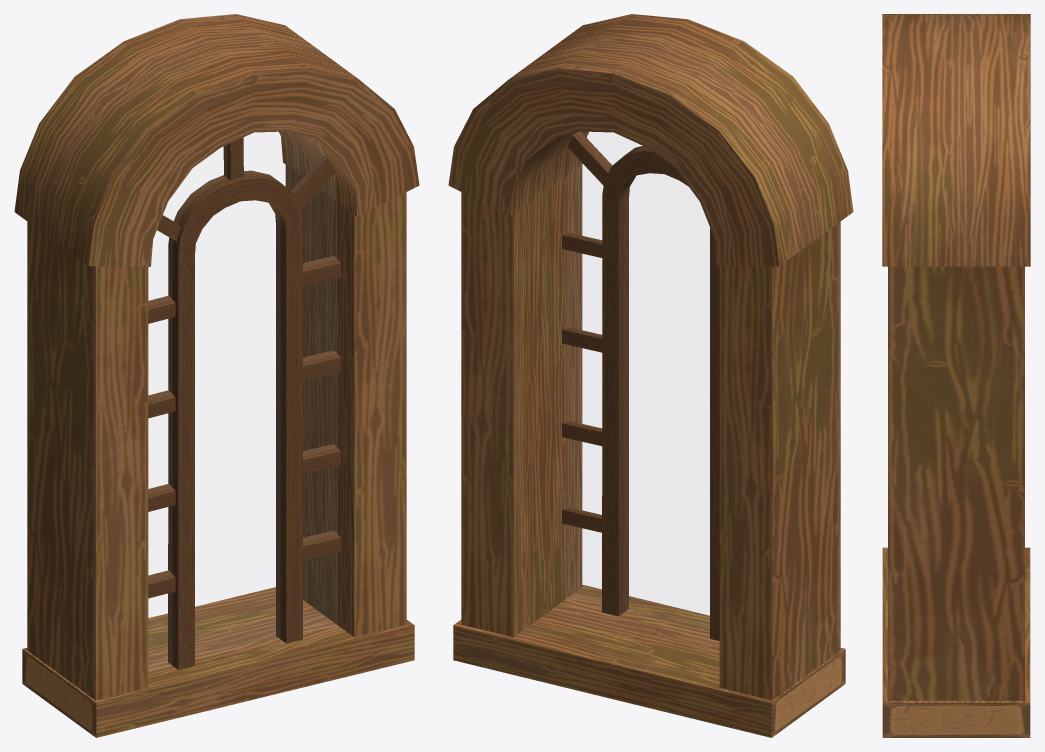
File: window_thin_round1.glb
3 views of the same model, side by side, from view 1: azimuth 30°, elevation 25°; view 2: azimuth 150°, elevation 25°; view 3: azimuth 270°, elevation 25° (orthographic).
Parts seen in each view (by area): view 1: Window_Thin_Round1; view 2: Window_Thin_Round1; view 3: Window_Thin_Round1.
Boxes of the visible parts, x1,y1,x2,y2 form: Window_Thin_Round1: [14, 14, 419, 737]; Window_Thin_Round1: [448, 14, 853, 737]; Window_Thin_Round1: [882, 14, 1030, 737].
Size of the model in its own units: 0.8876 by 1.6 by 0.3444.
2 materials, 1 textured.
